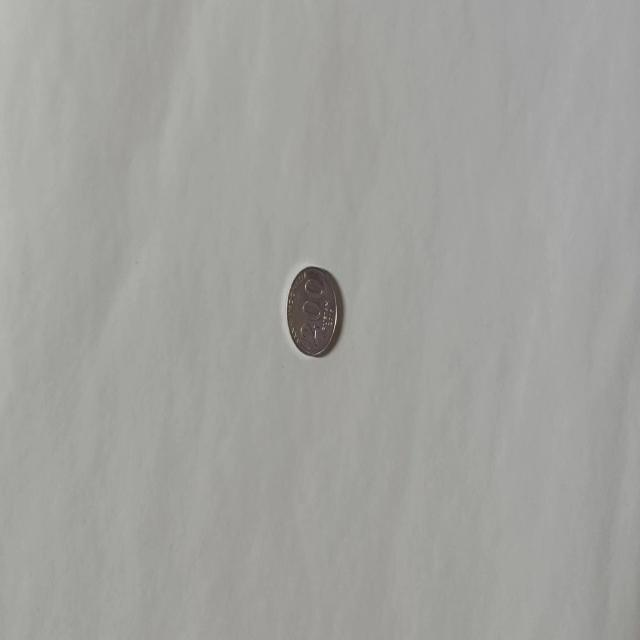dua ratus rupiah: (286, 264, 338, 358)
